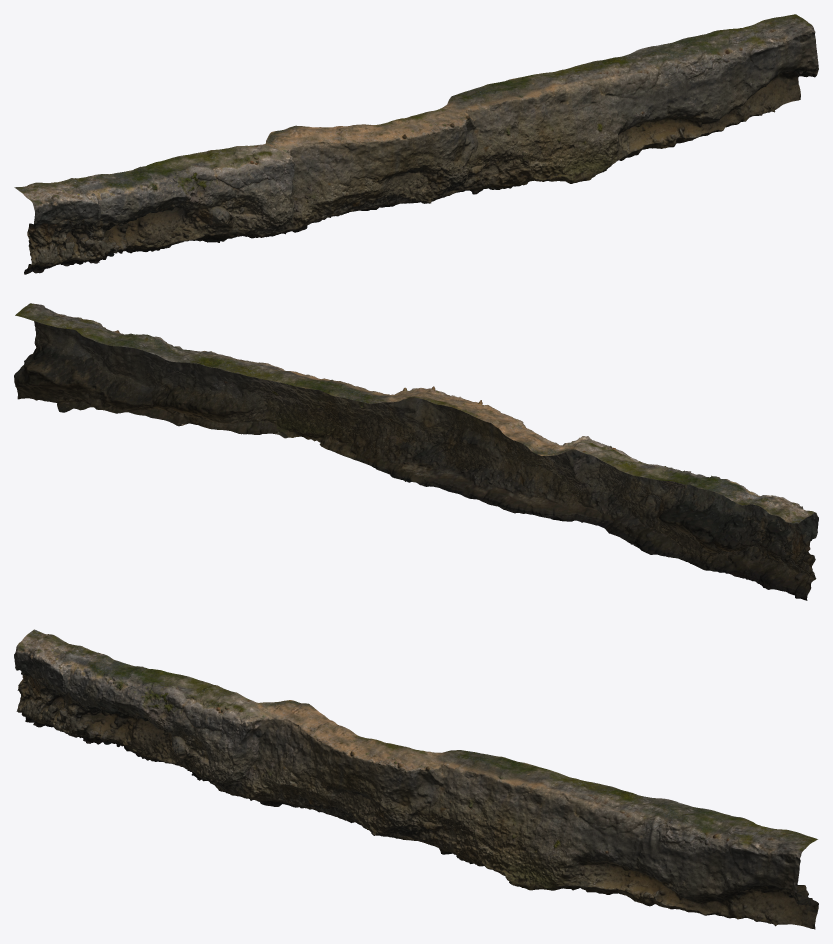
3 renders of one model, top to bottom at view 1: azimuth 30°, elevation 25°; view 2: azimuth 150°, elevation 25°; view 3: azimuth 330°, elevation 25°, orthographic. The views are drawn at different scales.
Parts seen in each view (by area): view 1: coastal_cliff_01; view 2: coastal_cliff_01; view 3: coastal_cliff_01.
Boxes of the visible parts, x1,y1,x2,y2 form: coastal_cliff_01: (14,14,818,274); coastal_cliff_01: (14,303,818,600); coastal_cliff_01: (14,629,818,929).
Bounding box in the file's own units: 91.98 × 10.32 × 10.96.
1 material, 1 textured.
